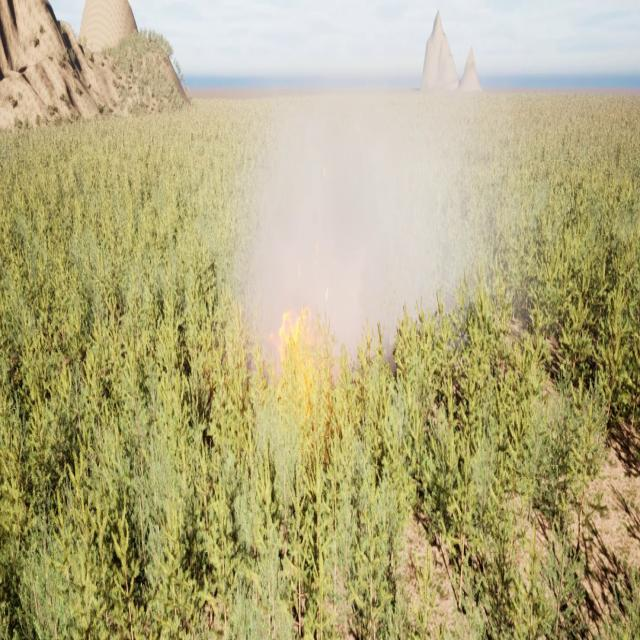fire: (267, 292, 334, 393)
smoke: (234, 49, 511, 406)
